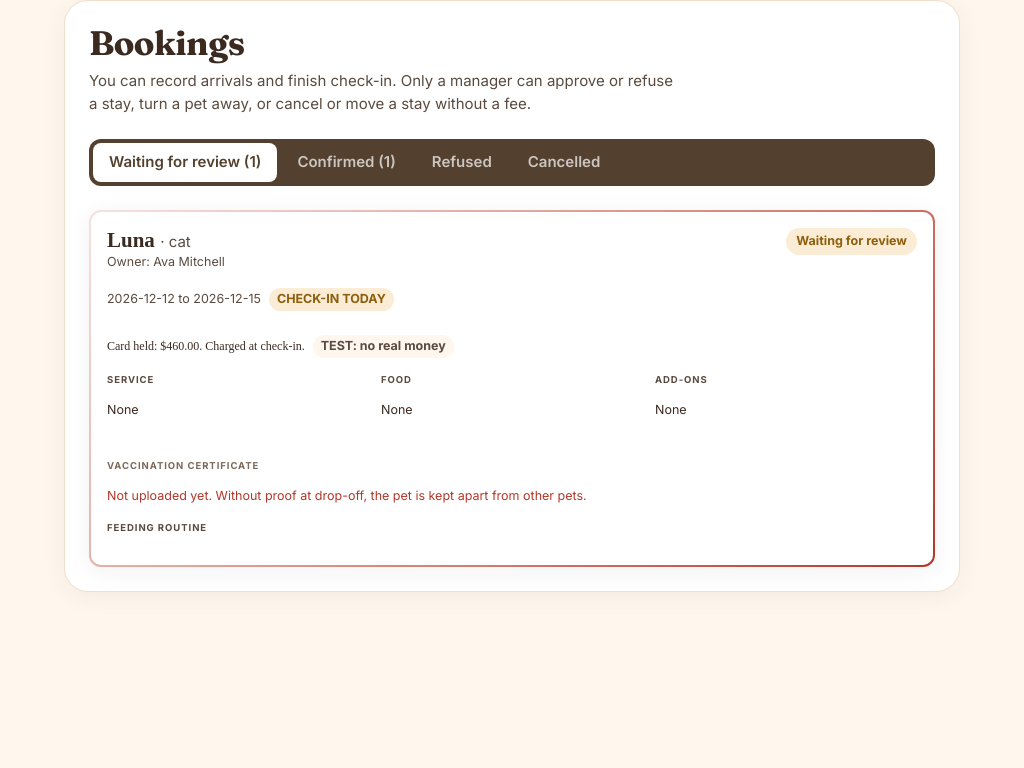
Test: the bookings desk › lets staff see new requests and work the desk, with every decision left to a manager
Later steps or results of the test are not shown.
Check: the heading "Luna · cat" is shown, box [107, 228, 191, 252]
Check: the text "You can record arrivals and finish check-in. Only a manager can approve or refuse a stay, turn a pet away, or cancel or " is shown, box [89, 71, 673, 113]
An approved stay on its drop-off day: staff record the arrival and finish check-in.
Click the button "Confirmed (1)": (347, 163) [281, 143, 412, 182]
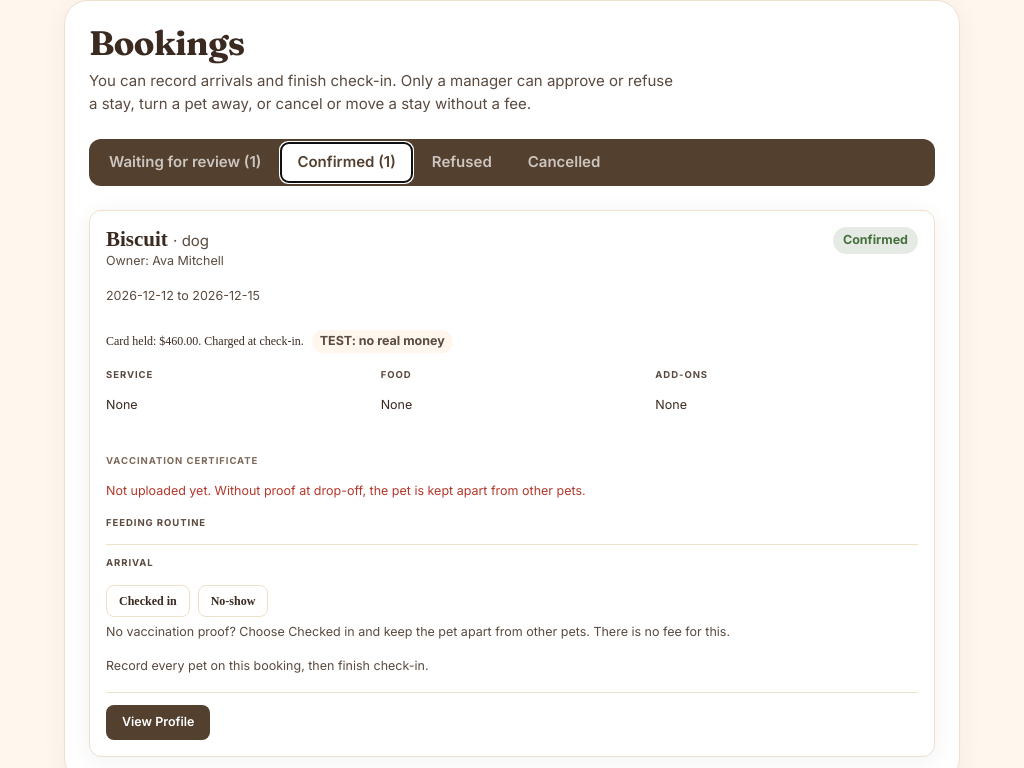
Check: the button "Checked in" is enabled, box [106, 585, 190, 617]
Check: the button "No-show" is enabled, box [198, 585, 268, 617]
